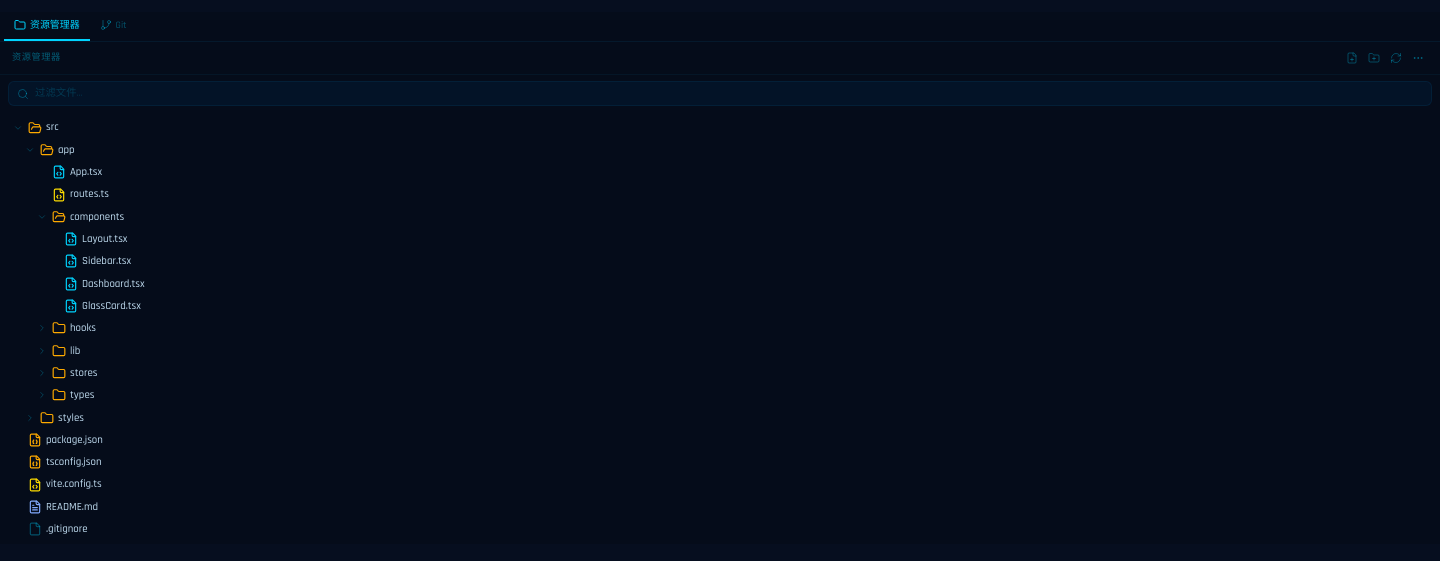
Scenario: FileExplorer › 右键菜单 › 点击外部应关闭菜单
Step 1. Right-click the text "App.tsx" → (86, 172), box [70,165,102,179]
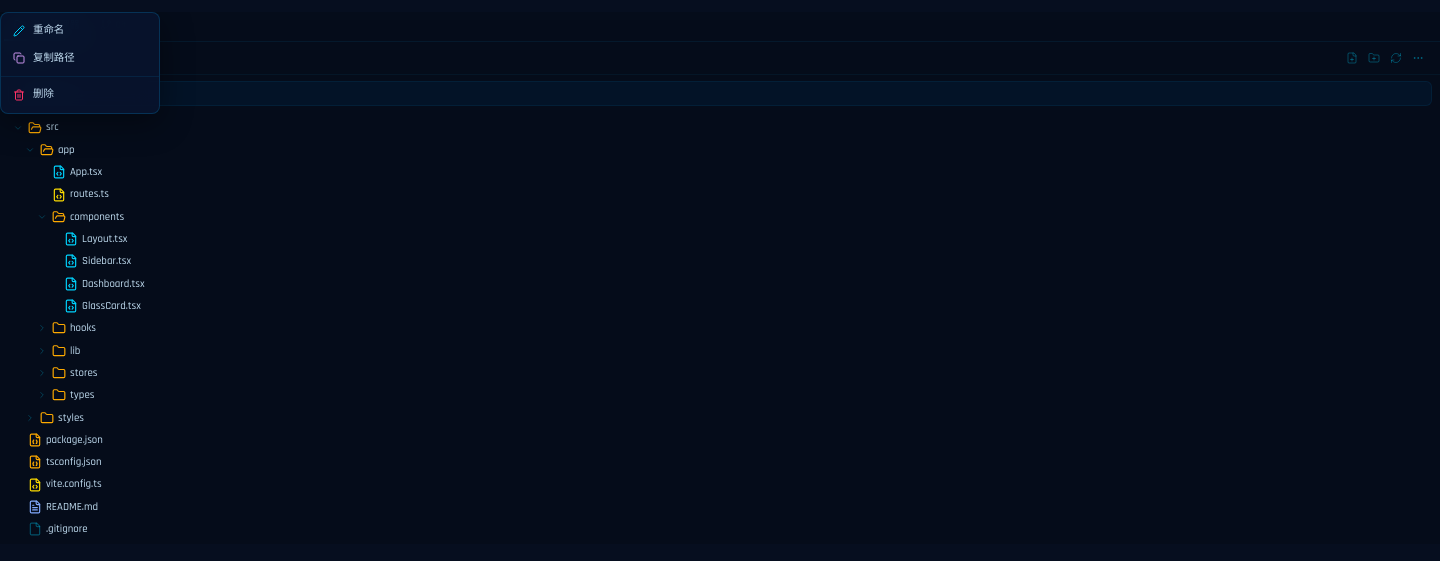
Result: the text "重命名" is shown at [33,23,64,39]
Step 2. Press the mouse on the element that starts with "资源管理器" → (720, 278), box [0,12,1439,544]
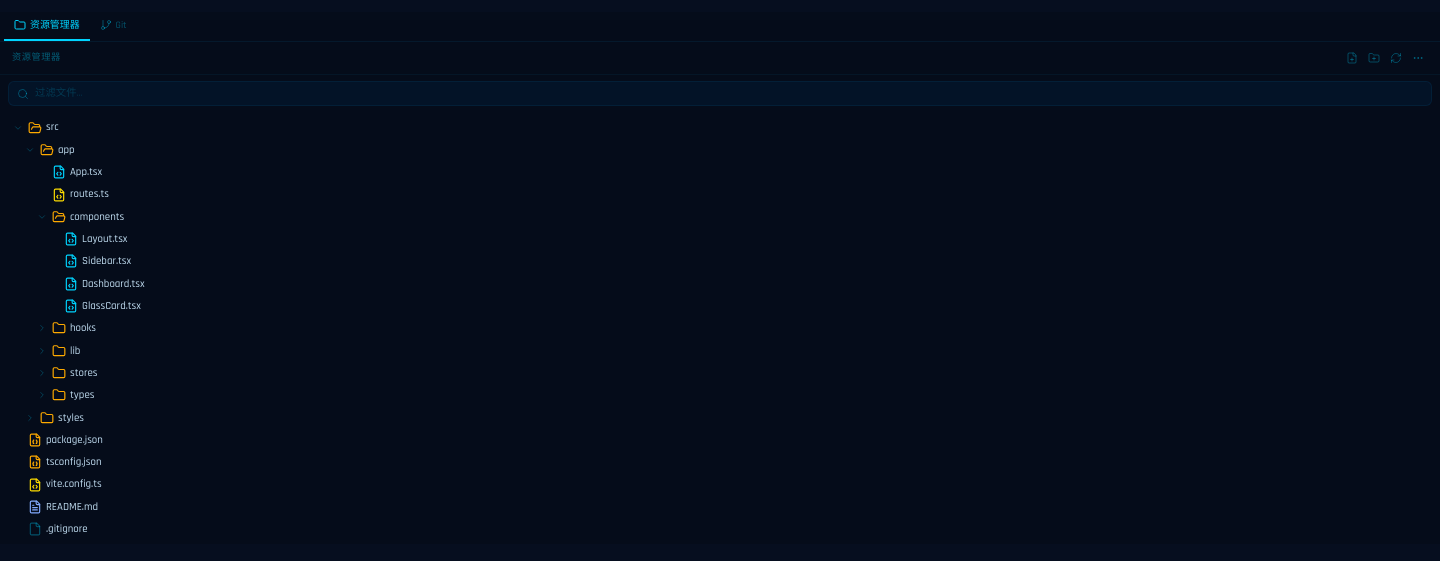
Result: the button "重命名" is gone
